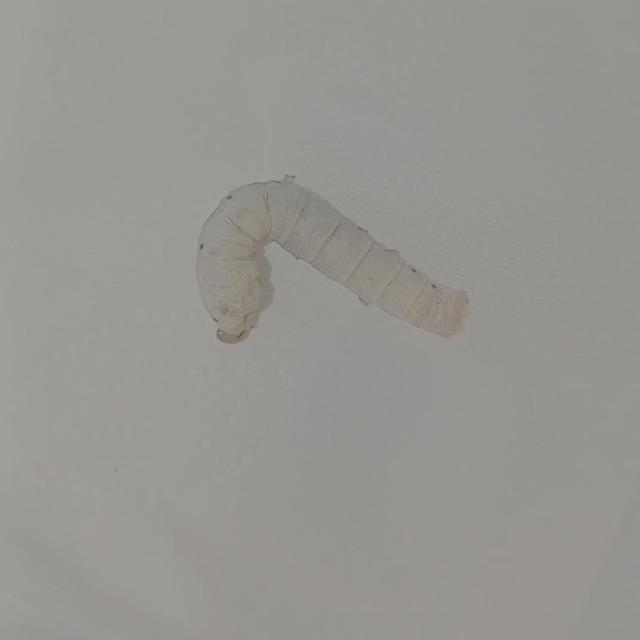Healthy: (191, 164, 481, 353)
